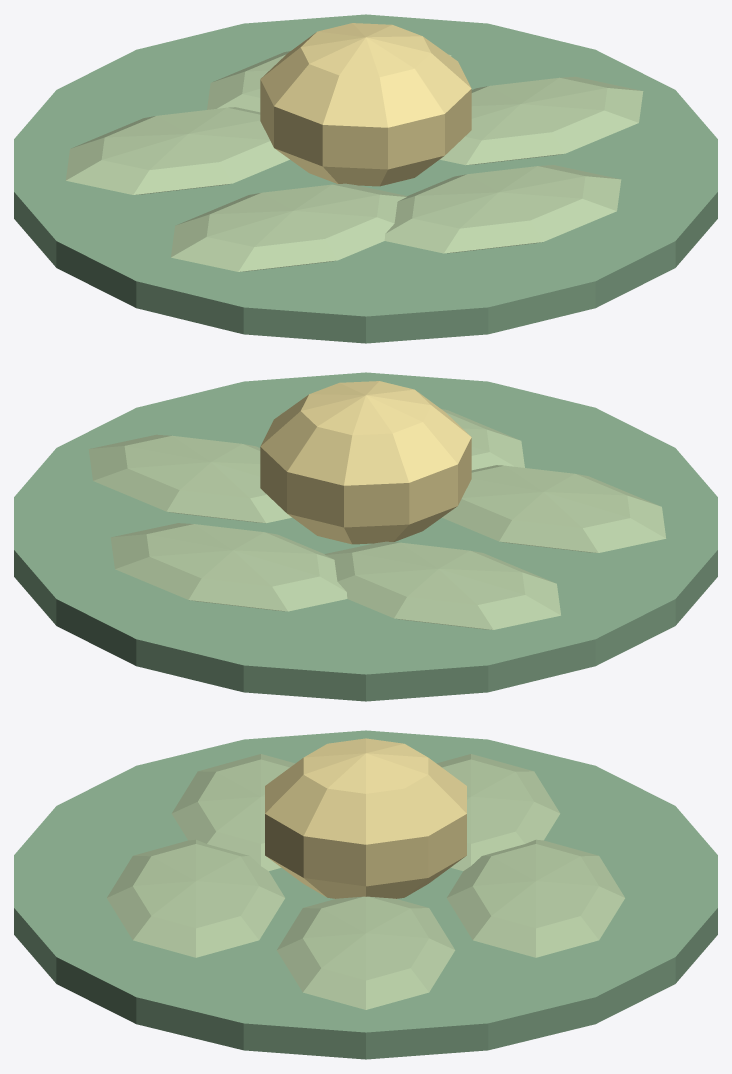
Rendered from nenufar.glb.
3 views of the same model, one above another, from view 1: azimuth 30°, elevation 25°; view 2: azimuth 150°, elevation 25°; view 3: azimuth 270°, elevation 25° (orthographic).
Parts seen in each view (by area): view 1: nenufar; view 2: nenufar; view 3: nenufar.
Boxes of the visible parts, <box> form: nenufar: <box>14,14,717,343</box>; nenufar: <box>14,372,717,701</box>; nenufar: <box>14,730,717,1059</box>.
Size of the model in its own units: 0.96 by 0.23 by 0.9454.
